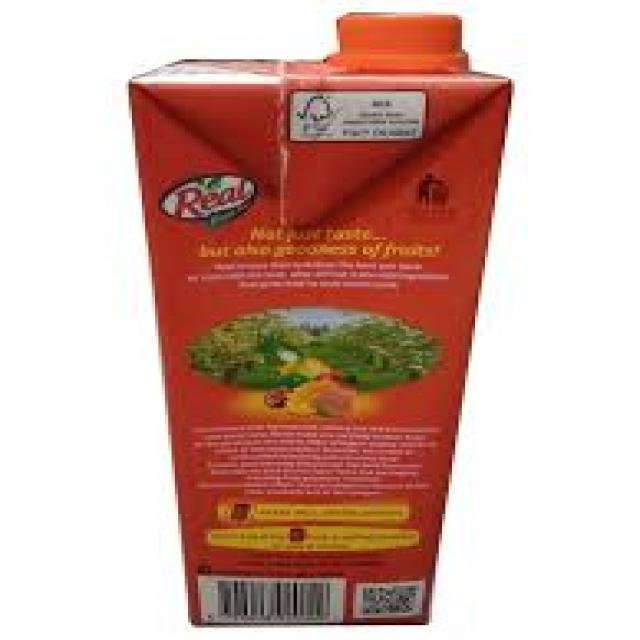non_white_jug: (98, 17, 506, 628)
